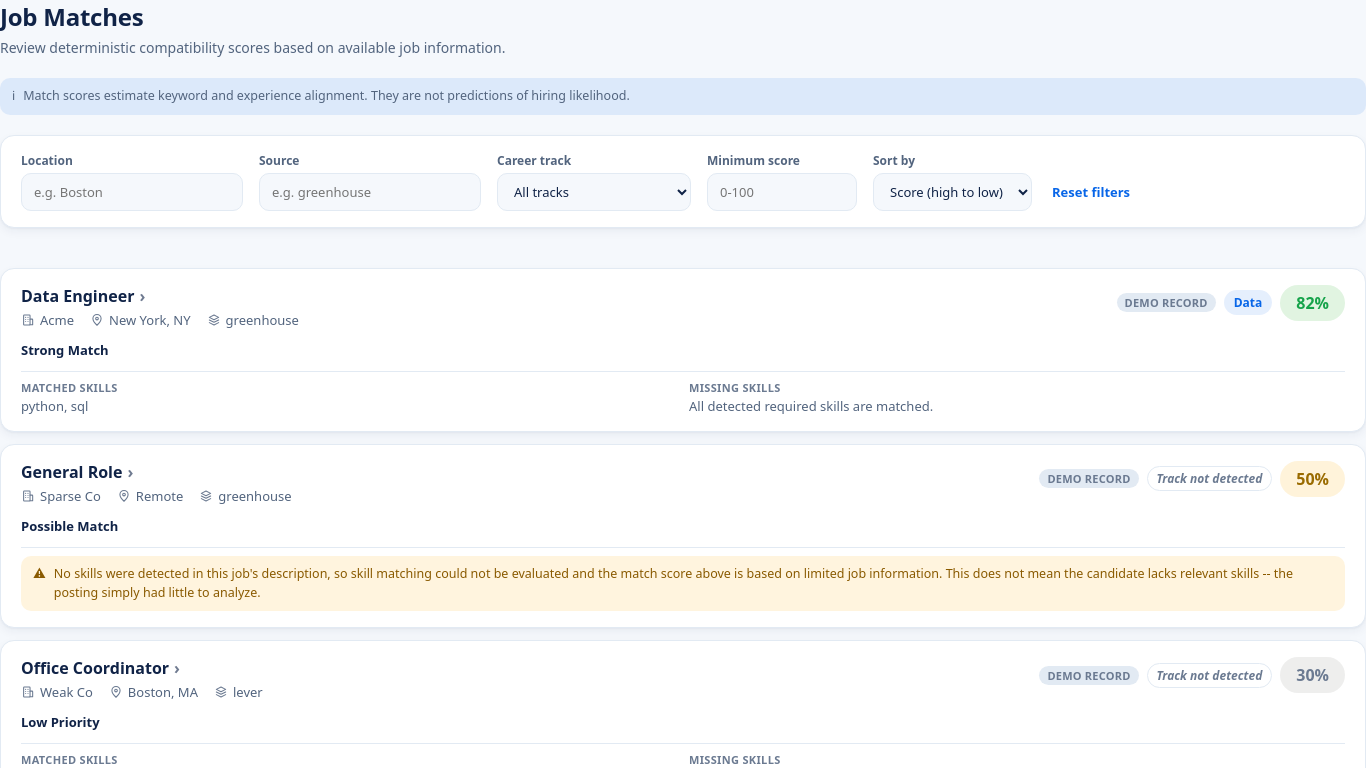
it: JobMatches › filters to the minimum score entered (server-side, like production)
Check: the link "Data Engineer ›" is shown, box [21,285,145,307]
Check: the link "Office Coordinator ›" is shown, box [21,657,180,679]
Type "50" into the number field labelled "Minimum score" at (782, 192), box [707,173,857,211]
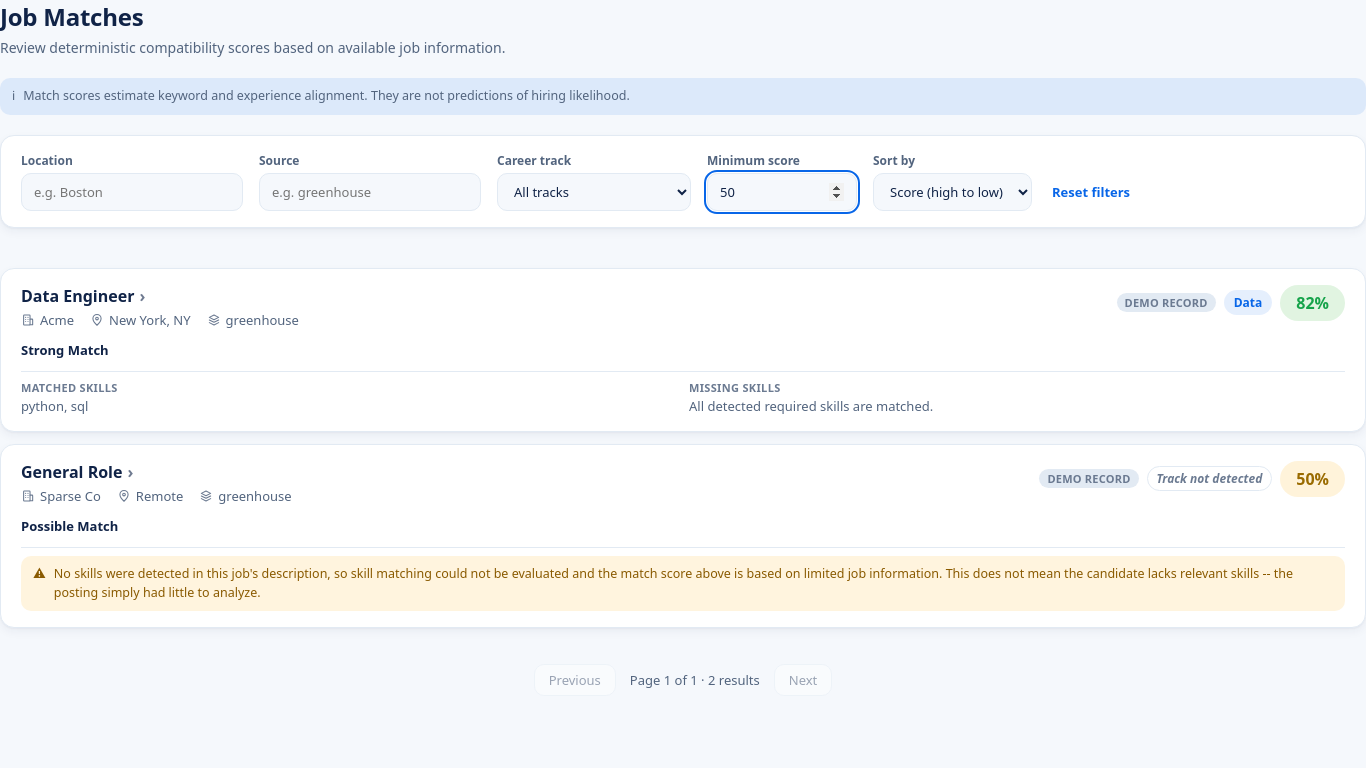
Check: the link "Data Engineer ›" is shown, box [21,285,145,307]
Check: the link "Office Coordinator" is gone
